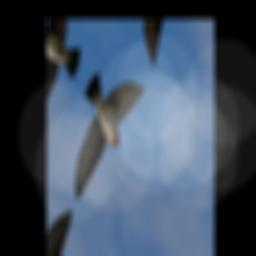Swallow: (54, 37, 145, 223)
